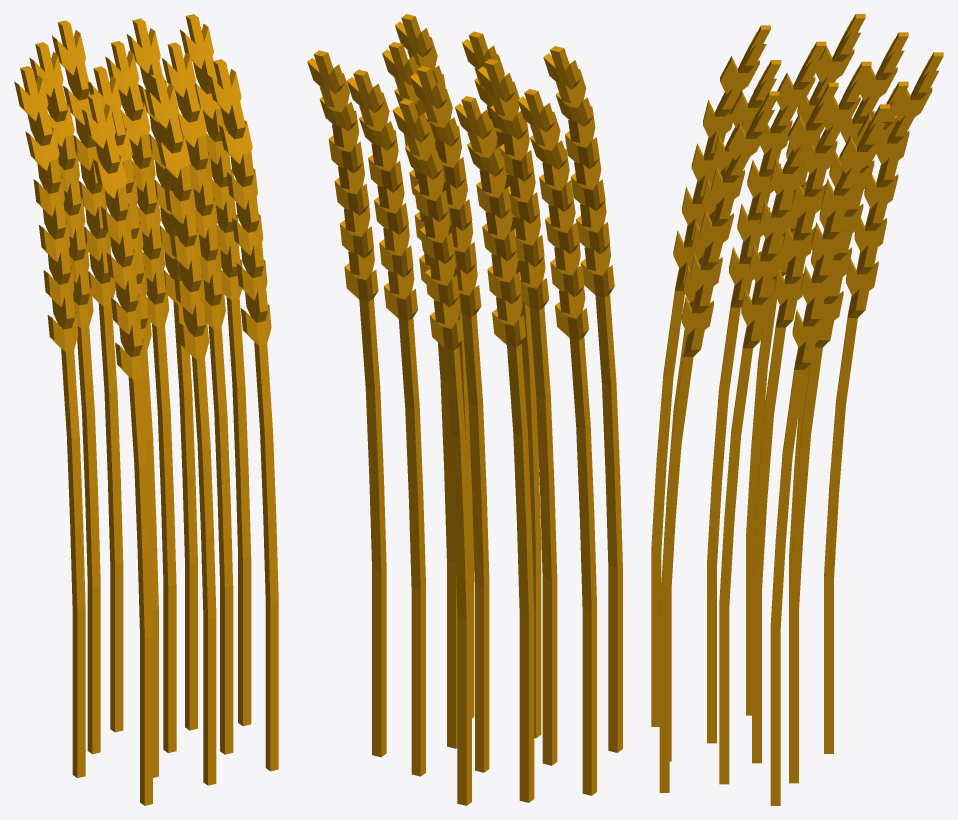
Rendered from trigo.fbx.
3 renders of one model, left to right at view 1: azimuth 30°, elevation 25°; view 2: azimuth 150°, elevation 25°; view 3: azimuth 270°, elevation 25°, orthographic. The views are drawn at different scales.
Visible parts, largest first — view 1: Cube.007, Cube.003, Cube.010, Cube.008, Cube.002, Cube, Cube.006, Cube.005, Cube.009, Cube.001, Cube.004; view 2: Cube.005, Cube.006, Cube.009, Cube.001, Cube.010, Cube.008, Cube.004, Cube, Cube.002, Cube.003, Cube.007; view 3: Cube.002, Cube.007, Cube.009, Cube, Cube.006, Cube.004, Cube.008, Cube.001, Cube.010, Cube.003, Cube.005.
Boxes of the visible parts, bbox=[...] form: Cube.007: bbox=[207, 59, 278, 771]; Cube.003: bbox=[145, 73, 216, 785]; Cube.010: bbox=[14, 66, 85, 777]; Cube.008: bbox=[81, 93, 152, 805]; Cube.002: bbox=[162, 42, 233, 754]; Cube: bbox=[105, 41, 176, 752]; Cube.006: bbox=[52, 20, 123, 732]; Cube.005: bbox=[29, 42, 100, 754]; Cube.009: bbox=[180, 14, 251, 726]; Cube.001: bbox=[126, 18, 197, 730]; Cube.004: bbox=[87, 66, 158, 777]; Cube.005: bbox=[455, 96, 534, 802]; Cube.006: bbox=[392, 99, 471, 805]; Cube.009: bbox=[307, 50, 386, 757]; Cube.001: bbox=[347, 69, 425, 776]; Cube.010: bbox=[517, 89, 596, 795]; Cube.008: bbox=[543, 46, 622, 752]; Cube.004: bbox=[478, 59, 557, 765]; Cube: bbox=[410, 66, 489, 772]; Cube.002: bbox=[382, 42, 457, 748]; Cube.003: bbox=[462, 31, 541, 738]; Cube.007: bbox=[395, 14, 474, 718]; Cube.002: bbox=[719, 82, 838, 784]; Cube.007: bbox=[659, 91, 779, 792]; Cube.009: bbox=[770, 104, 890, 805]; Cube: bbox=[752, 61, 871, 763]; Cube.006: bbox=[824, 52, 943, 753]; Cube.004: bbox=[707, 41, 826, 743]; Cube.008: bbox=[651, 25, 770, 726]; Cube.001: bbox=[789, 81, 908, 783]; Cube.010: bbox=[746, 14, 865, 715]; Cube.003: bbox=[665, 60, 781, 761]; Cube.005: bbox=[789, 32, 908, 602].
Size of the model in its own units: 63.04 by 200 by 75.94.
